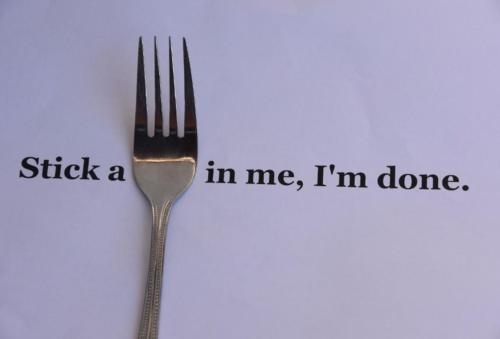Fork: (130, 36, 198, 339)
